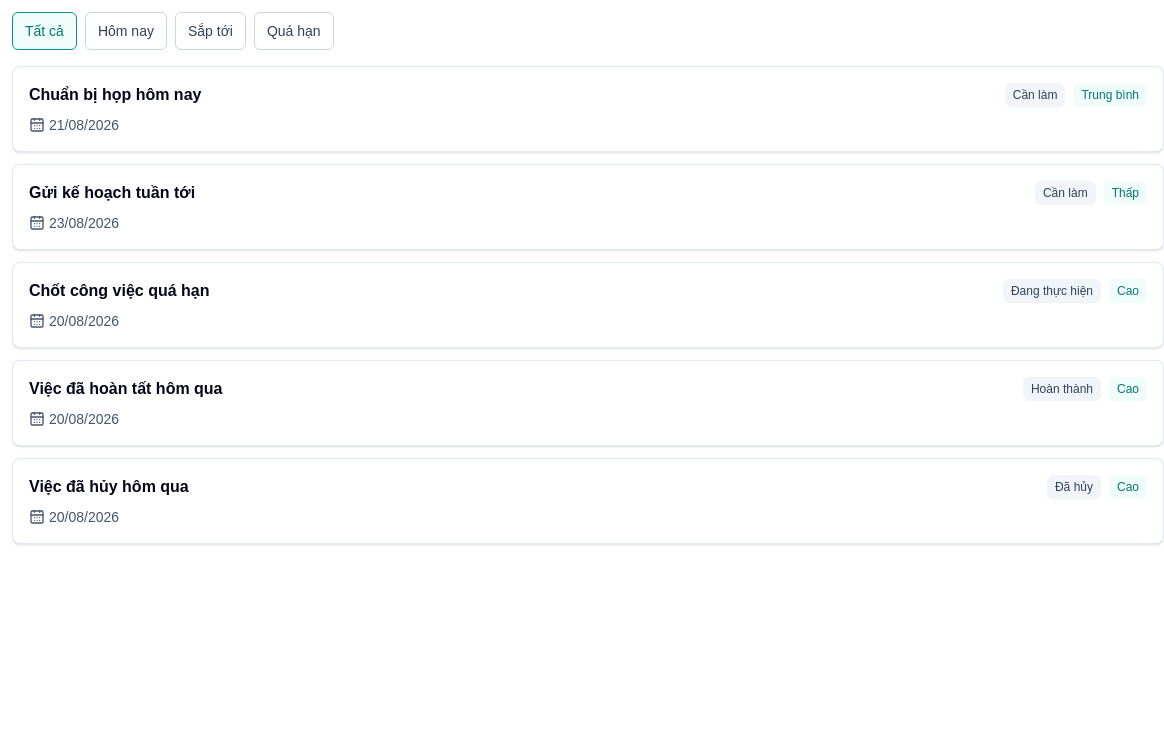
Test: TaskList › filters quick tabs for today, upcoming and overdue tasks
The width and height of the screenshot is (1164, 732).
Click the tab "Quá hạn" at (294, 31), box [254,12,334,50]
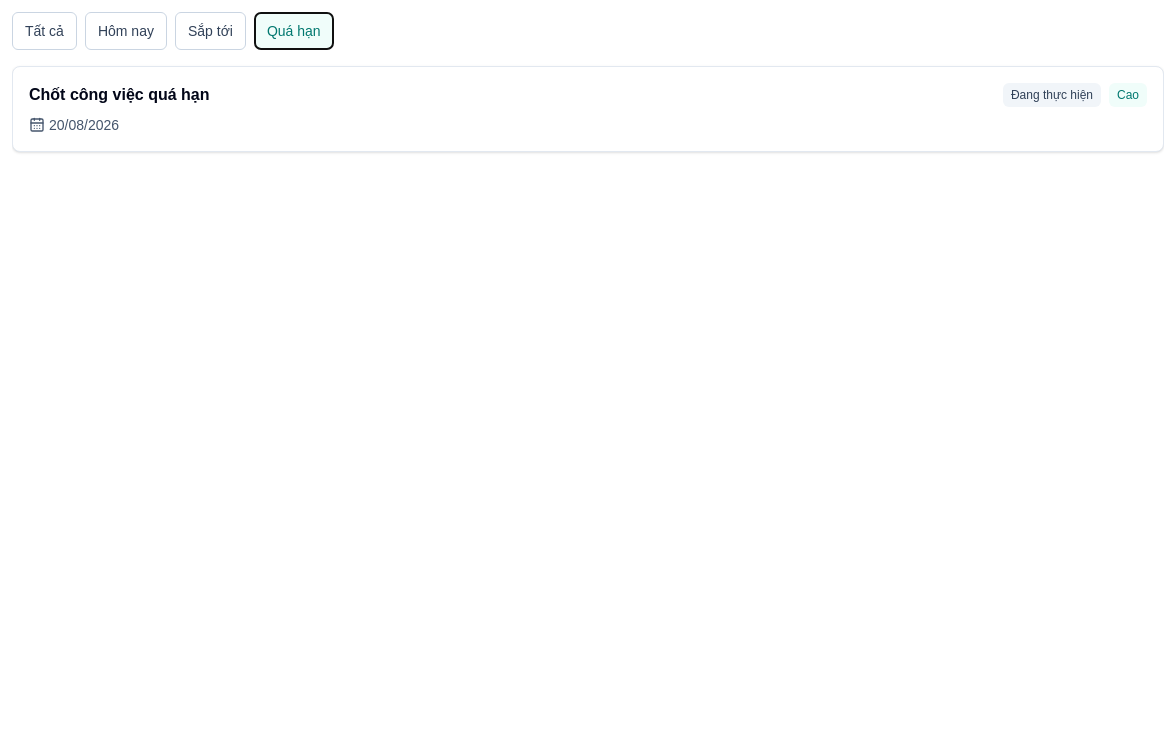
Expected: the heading "Việc đã hoàn tất hôm qua" is gone
Expected: the heading "Việc đã hủy hôm qua" is gone
Expected: the heading "Gửi kế hoạch tuần tới" is gone
Click the tab "Hôm nay" at (126, 31), box [85,12,167,50]
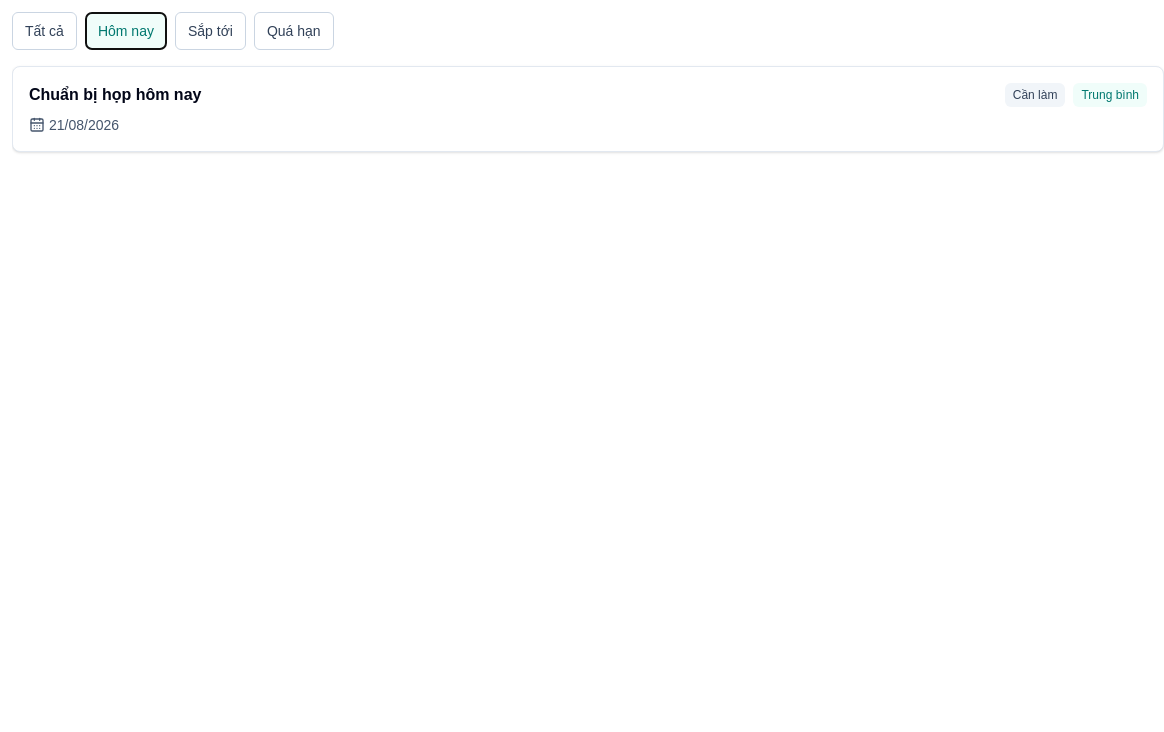
Expected: the element "Chuẩn bị họp hôm nay" is shown, [12,66,1163,152]
Expected: the heading "Chốt công việc quá hạn" is gone
